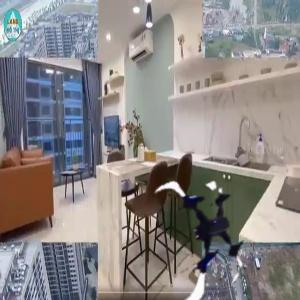drone: (137, 169, 265, 297)
